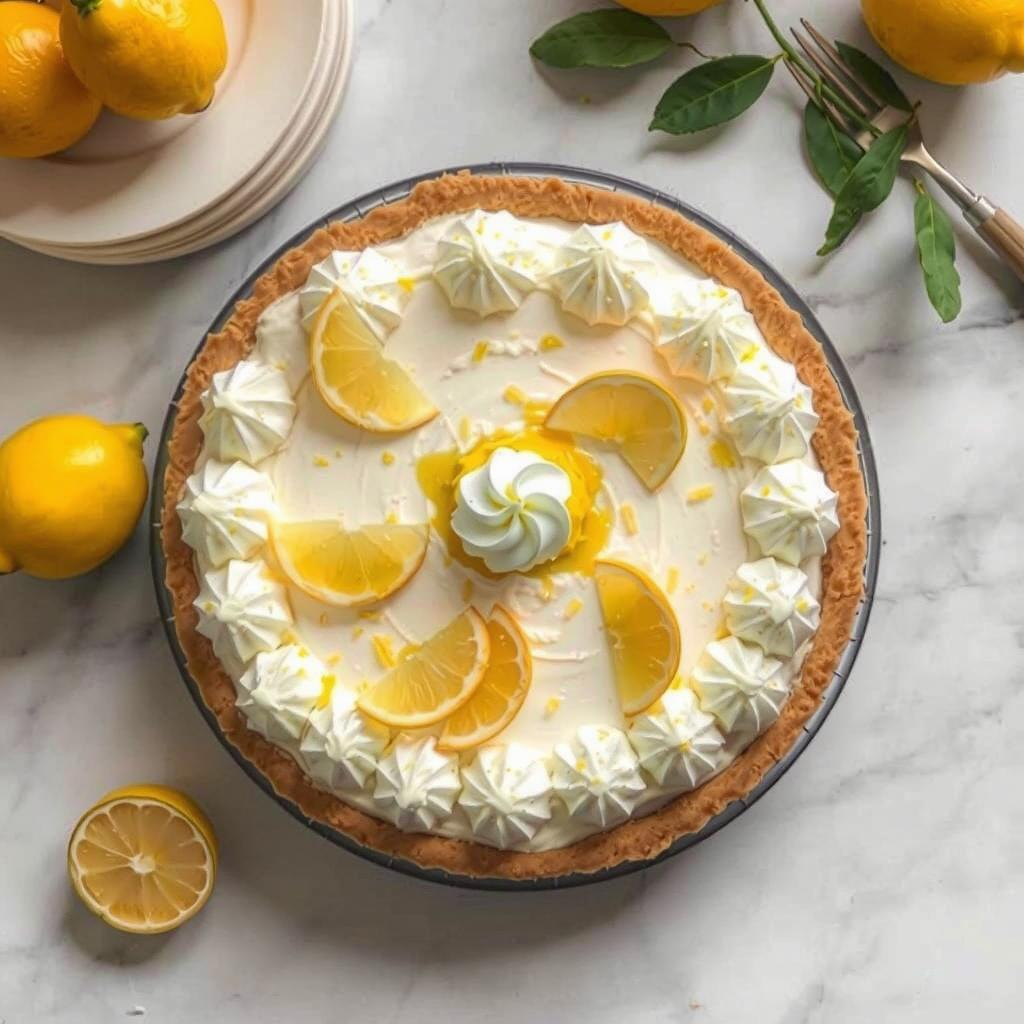pie: (140, 157, 879, 904)
